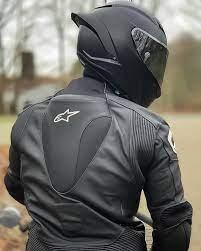helmet: (57, 0, 188, 115)
